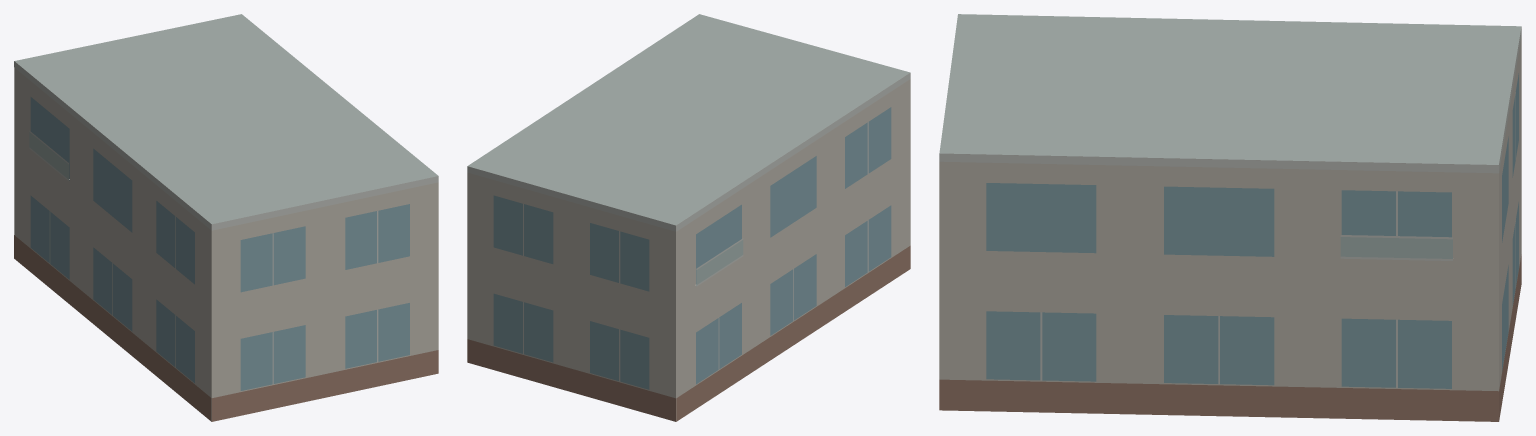
Rendered from survey-upis-33037495.glb.
The picture shows the model from 3 angles, left to right: view 1: azimuth 30°, elevation 25°; view 2: azimuth 150°, elevation 25°; view 3: azimuth 270°, elevation 25°; orthographic projection. The views are drawn at different scales.
Parts seen in each view (by area): view 1: survey-upis-33037495.tmp; view 2: survey-upis-33037495.tmp; view 3: survey-upis-33037495.tmp.
Boxes of the visible parts, x1=… form: survey-upis-33037495.tmp: x1=14, y1=14, x2=438, y2=421; survey-upis-33037495.tmp: x1=467, y1=14, x2=910, y2=421; survey-upis-33037495.tmp: x1=939, y1=14, x2=1521, y2=421.
Bounding box in the file's own units: 9.59 × 7.6 × 15.63.
